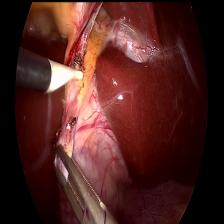Grasper: (52, 140, 119, 223)
Hook: (41, 52, 84, 96)
